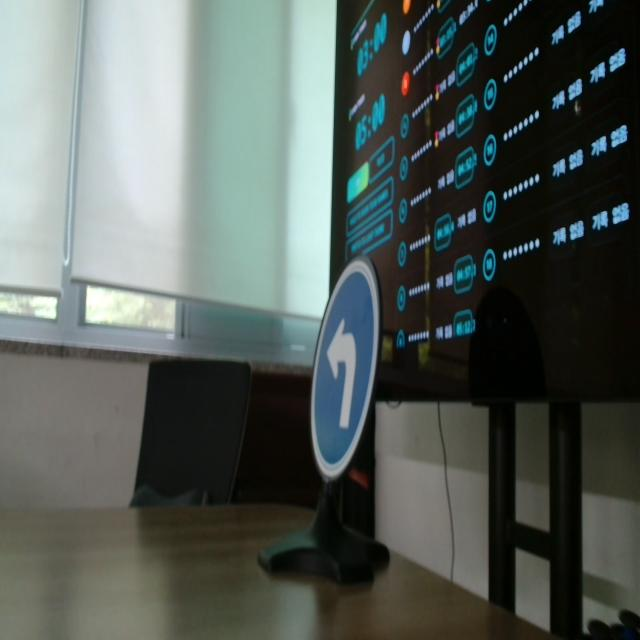left_direction: (302, 237, 384, 505)
